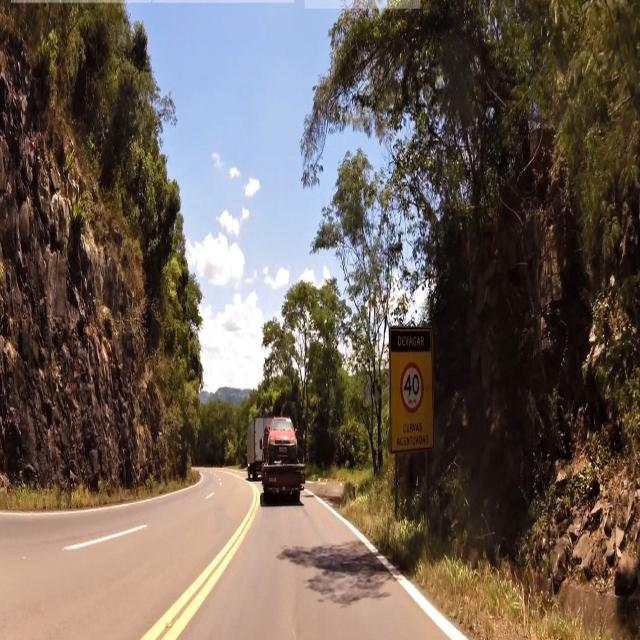R-19: (400, 361, 425, 414)
